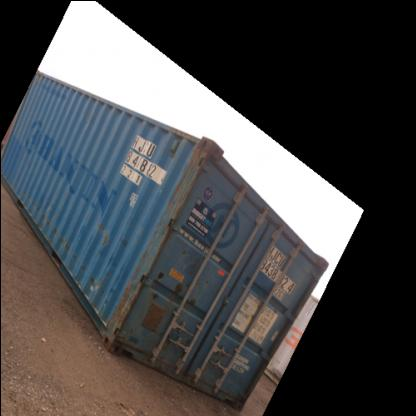Damage: (161, 158, 201, 228), (29, 207, 73, 255), (108, 274, 136, 338), (135, 230, 171, 273), (156, 332, 176, 378), (194, 132, 224, 160), (90, 219, 112, 256), (63, 243, 89, 274), (194, 359, 218, 391), (82, 270, 100, 300), (118, 234, 130, 252)
